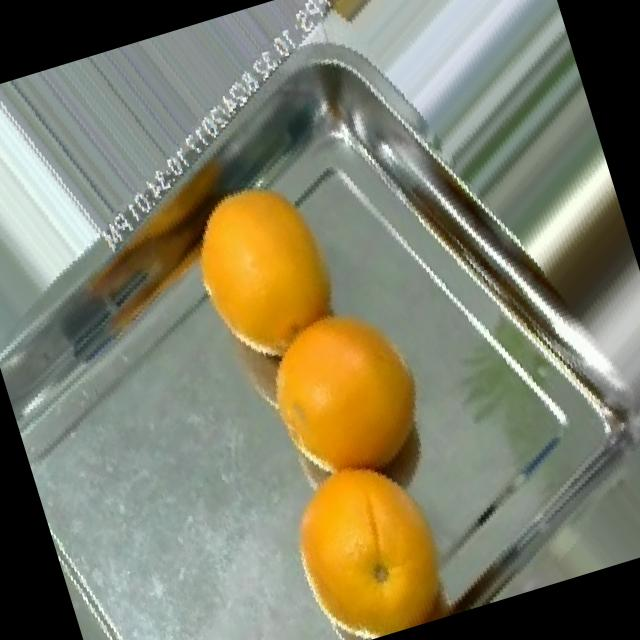Fruit: (135, 144, 388, 420), (243, 420, 480, 640), (304, 0, 450, 47)
